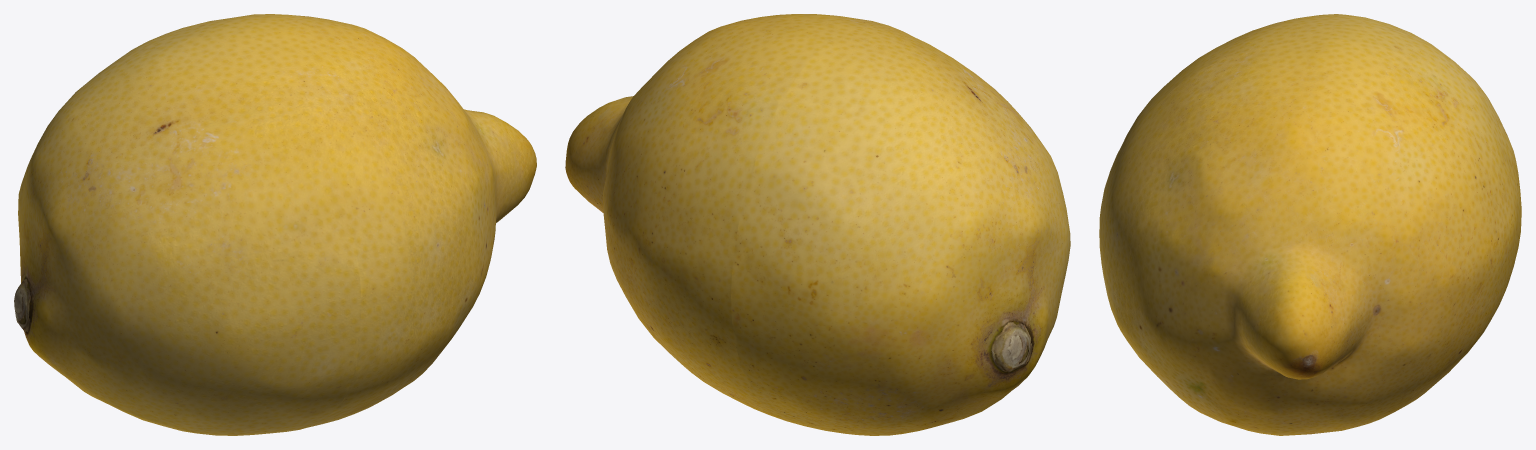
The model's file is SM_Lemon_Sliced.fbx.
3 renders of one model, left to right at view 1: azimuth 30°, elevation 25°; view 2: azimuth 150°, elevation 25°; view 3: azimuth 270°, elevation 25°, orthographic.
Parts seen in each view (by area): view 1: polySurface1, polySurface2; view 2: polySurface1, polySurface2; view 3: polySurface2, polySurface1.
Part boxes in pixels (x1,y1,x2,y2): polySurface1: [14, 22, 361, 435]; polySurface2: [200, 14, 536, 426]; polySurface1: [731, 25, 1070, 435]; polySurface2: [565, 14, 891, 420]; polySurface2: [1099, 39, 1521, 435]; polySurface1: [1102, 14, 1521, 217].
Size of the model in its own units: 6.83 by 5 by 5.2.
Materials: 2 (2 with a texture image).
